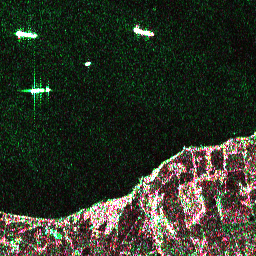ship: (130, 24, 157, 39), (13, 27, 39, 41), (27, 85, 52, 95), (83, 60, 93, 67)
